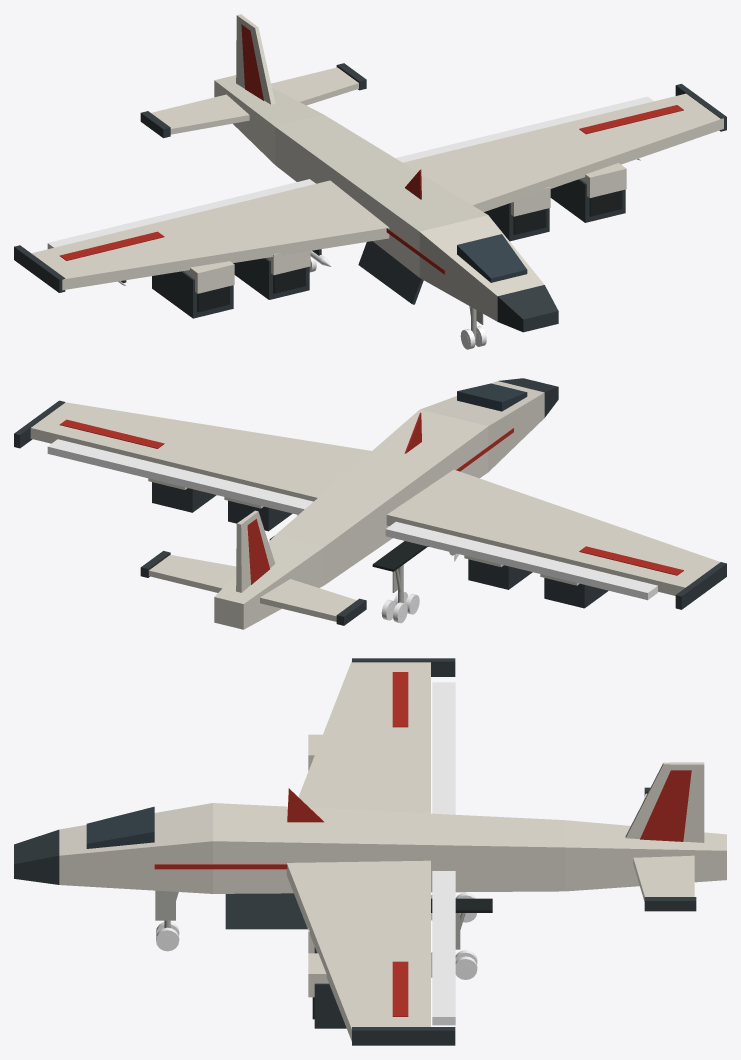
The picture shows the model from 3 angles, top to bottom: view 1: azimuth 30°, elevation 25°; view 2: azimuth 150°, elevation 25°; view 3: azimuth 270°, elevation 25°; orthographic projection. The views are drawn at different scales.
Parts seen in each view (by area): view 1: bomber-fleet-armor, bomber-fleet-machine, bomber-fleet-red, bomber-fleet-rubber, bomber-fleet-glass, flap-left-painted, flap-right-painted; view 2: bomber-fleet-armor, bomber-fleet-machine, flap-left-painted, flap-right-painted, bomber-fleet-red, bomber-fleet-glass, bomber-fleet-rubber; view 3: bomber-fleet-armor, bomber-fleet-machine, bomber-fleet-red, flap-right-painted, flap-left-painted, bomber-fleet-glass, landing-gear-nose-fleet-edge, bomber-fleet-rubber.
Part boxes in pixels (<box>): bomber-fleet-armor: <box>31,14,723,321</box>; bomber-fleet-machine: <box>14,63,726,332</box>; bomber-fleet-red: <box>60,24,683,274</box>; bomber-fleet-rubber: <box>197,190,622,312</box>; bomber-fleet-glass: <box>457,234,527,282</box>; flap-left-painted: <box>47,179,315,248</box>; flap-right-painted: <box>395,96,653,162</box>; bomber-fleet-armor: <box>30,381,720,629</box>; bomber-fleet-machine: <box>14,378,726,625</box>; flap-left-painted: <box>385,521,657,600</box>; flap-right-painted: <box>47,439,313,514</box>; bomber-fleet-red: <box>59,412,683,584</box>; bomber-fleet-glass: <box>457,383,527,411</box>; bomber-fleet-rubber: <box>269,536,427,571</box>; bomber-fleet-armor: <box>59,661,726,1041</box>; bomber-fleet-machine: <box>14,658,696,1045</box>; bomber-fleet-red: <box>154,672,691,1016</box>; flap-right-painted: <box>432,871,455,1025</box>; flap-left-painted: <box>432,682,455,814</box>; bomber-fleet-glass: <box>86,806,154,848</box>; landing-gear-nose-fleet-edge: <box>155,890,178,928</box>; bomber-fleet-rubber: <box>312,898,492,1019</box>.
Bounding box in the file's own units: 156 × 35.86 × 126.
